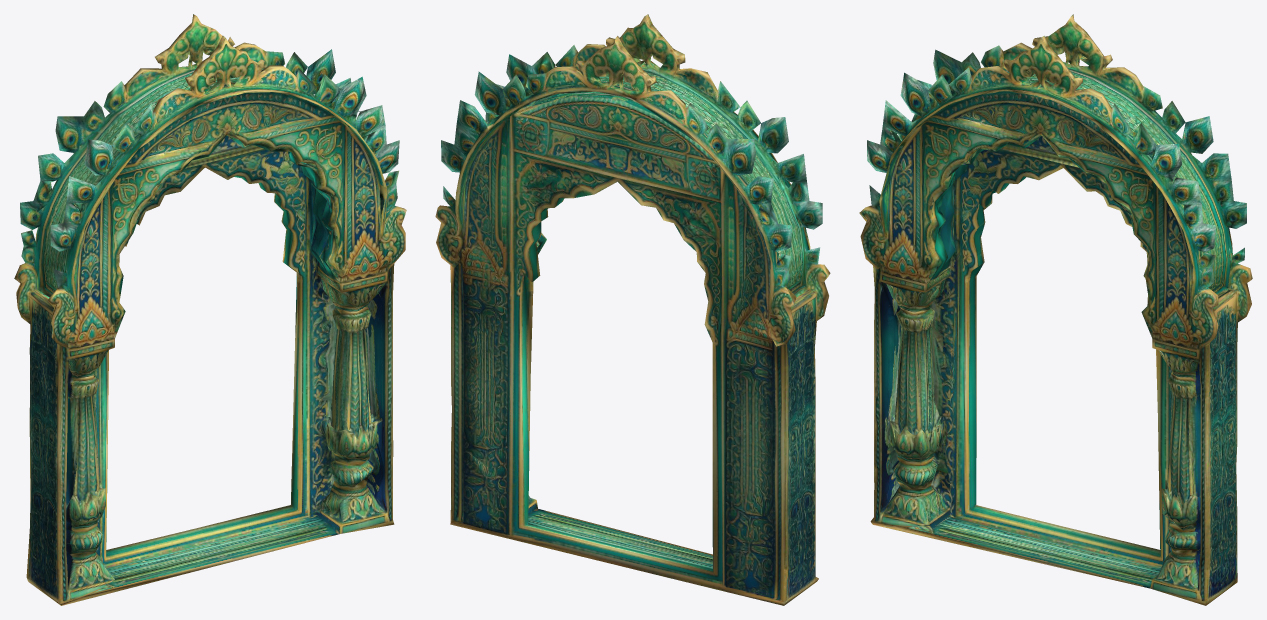
Rendered from Teal_Peacock_Arch.glb.
3 renders of one model, left to right at view 1: azimuth 30°, elevation 25°; view 2: azimuth 150°, elevation 25°; view 3: azimuth 330°, elevation 25°, orthographic.
Parts seen in each view (by area): view 1: Mesh1.0; view 2: Mesh1.0; view 3: Mesh1.0.
Part boxes in pixels (bbox=[...]): Mesh1.0: bbox=[14, 14, 406, 605]; Mesh1.0: bbox=[435, 14, 830, 605]; Mesh1.0: bbox=[859, 14, 1252, 605].
Size of the model in its own units: 1.35 by 1.9 by 0.2553.
Materials: 1 (1 with a texture image).
